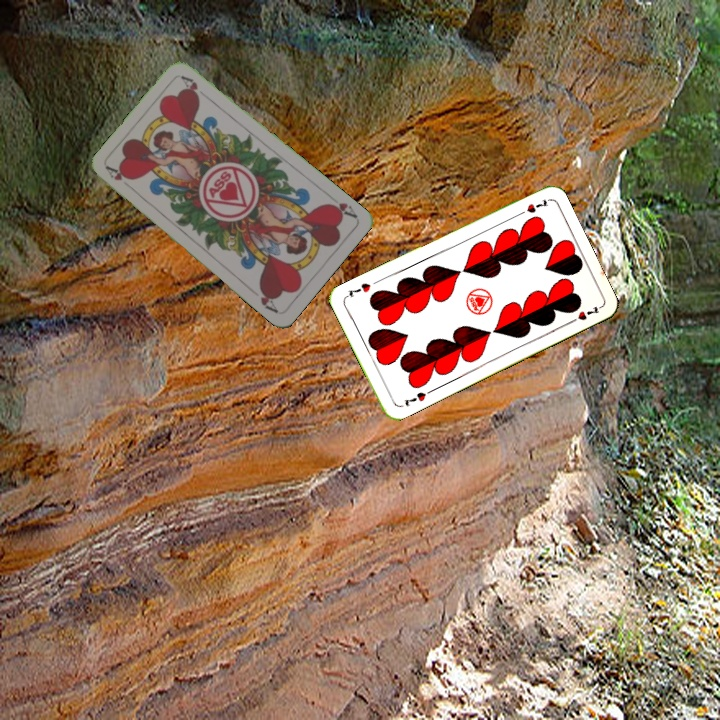H7: (513, 195, 551, 218), (400, 388, 429, 409)
HA: (103, 162, 137, 193), (322, 198, 360, 221)
